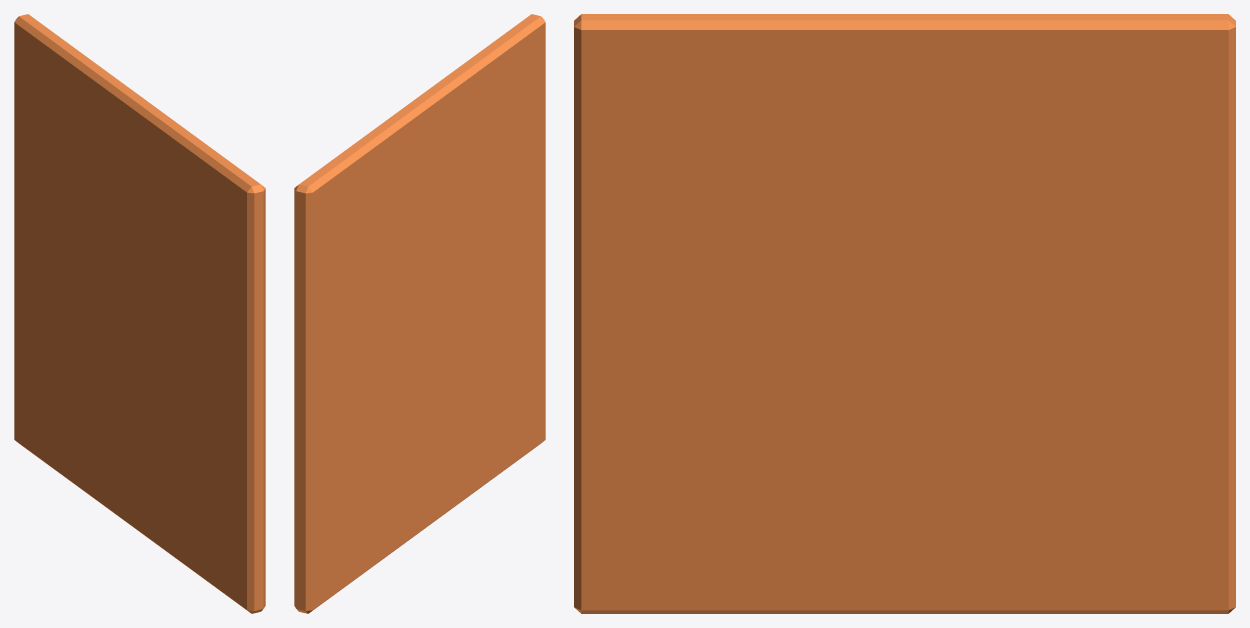
File: SM_Partition2x1.fbx
3 renders of one model, left to right at view 1: azimuth 30°, elevation 25°; view 2: azimuth 150°, elevation 25°; view 3: azimuth 270°, elevation 25°, orthographic. The views are drawn at different scales.
Visible parts, largest first — view 1: SM_Partition2x1; view 2: SM_Partition2x1; view 3: SM_Partition2x1.
Part boxes in pixels (x1,y1,x2,y2): SM_Partition2x1: [14, 14, 265, 613]; SM_Partition2x1: [294, 14, 545, 613]; SM_Partition2x1: [574, 14, 1235, 613].
Bounding box in the file's own units: 4.55 × 100 × 101.
